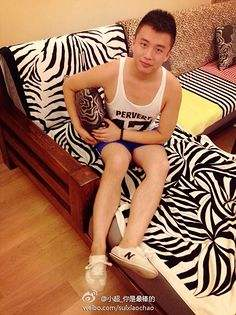person: (97, 10, 191, 278)
